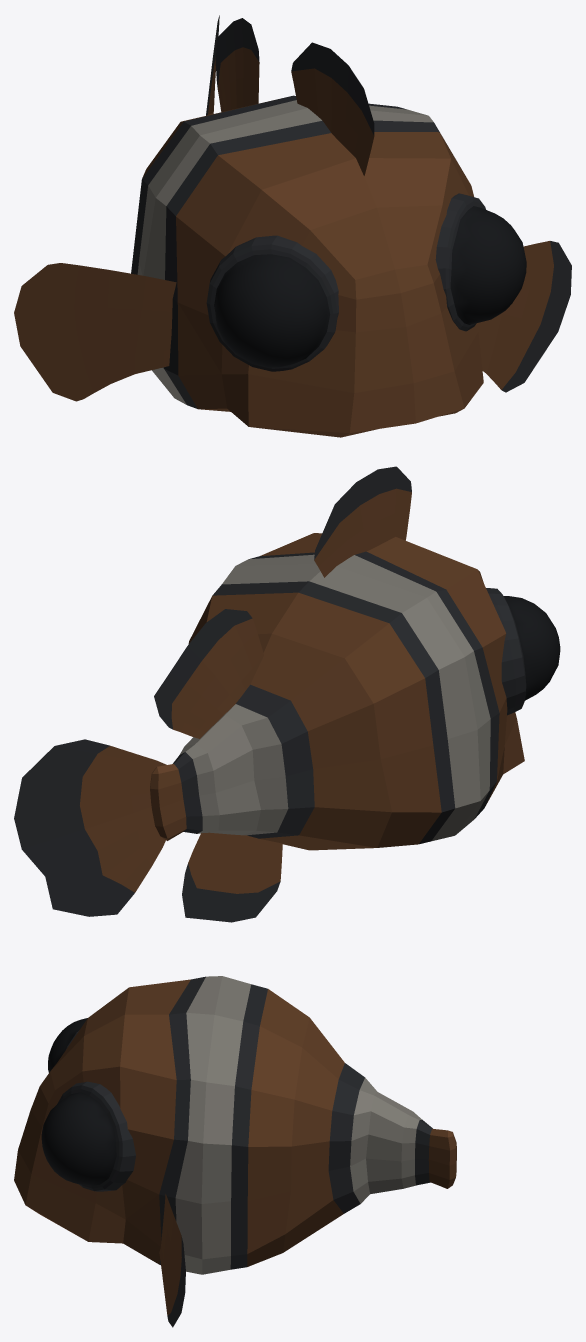
File: cc0-clownfish-lod0.glb
3 views of the same model, one above another, from view 1: azimuth 30°, elevation 25°; view 2: azimuth 150°, elevation 25°; view 3: azimuth 270°, elevation 25° (orthographic). The views are drawn at different scales.
Visible parts, largest first — view 1: part_0; view 2: part_0; view 3: part_0.
Part boxes in pixels (x1,y1,x2,y2): part_0: (14,15,571,437); part_0: (14,466,560,922); part_0: (14,976,456,1327).
Bounding box in the file's own units: 4.34 × 3.07 × 5.03.
